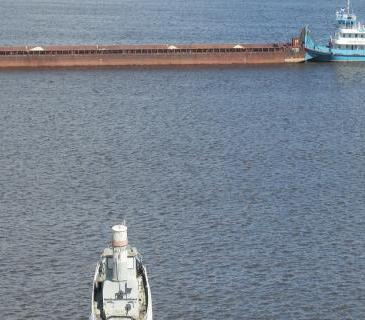Ship: (0, 0, 365, 95)
